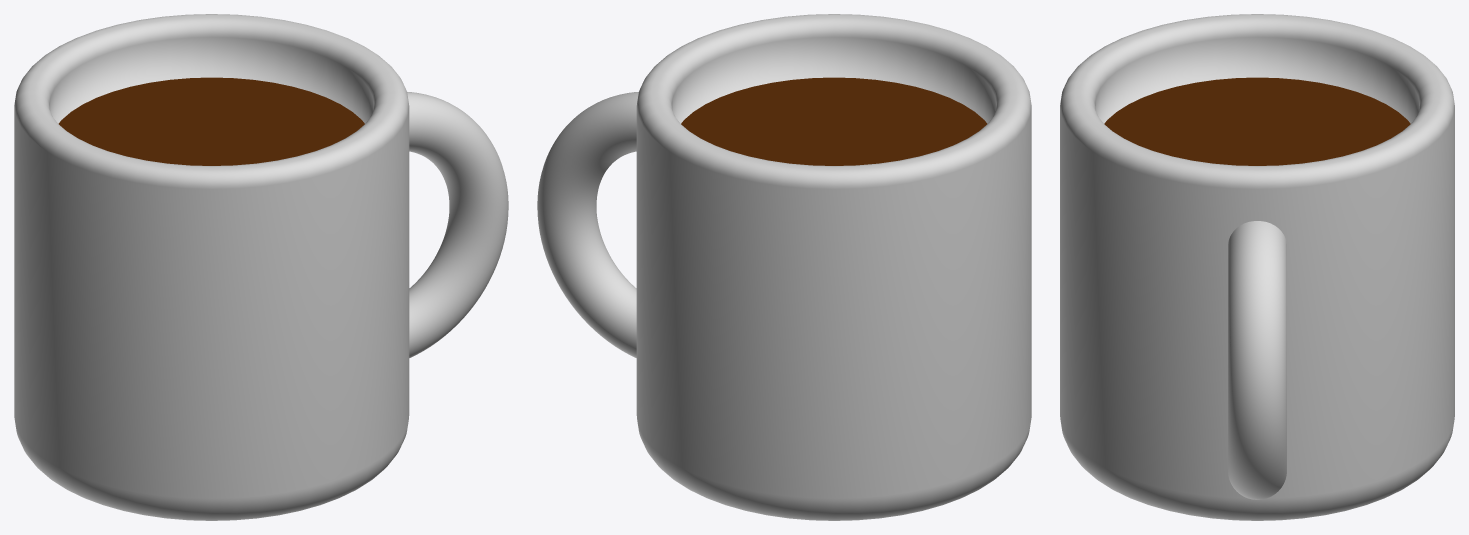
The model's file is CoffeeCup.glb.
3 views of the same model, side by side, from view 1: azimuth 30°, elevation 25°; view 2: azimuth 150°, elevation 25°; view 3: azimuth 270°, elevation 25° (orthographic).
Visible parts, largest first — view 1: Cylinder.002; view 2: Cylinder.002; view 3: Cylinder.002.
Boxes of the visible parts, x1=… form: Cylinder.002: x1=14, y1=14, x2=508, y2=520; Cylinder.002: x1=537, y1=14, x2=1031, y2=520; Cylinder.002: x1=1060, y1=14, x2=1454, y2=520.
Bounding box in the file's own units: 2.71 × 2 × 2.
